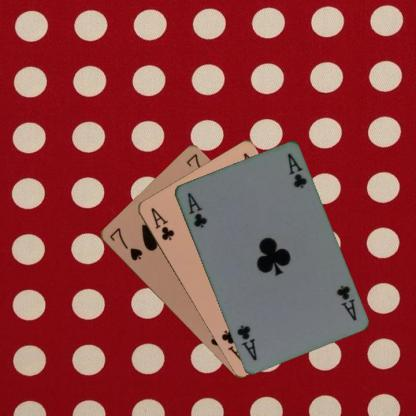7s: (106, 225, 144, 262)
Ac: (148, 204, 176, 242), (333, 282, 358, 322), (184, 190, 208, 229)
